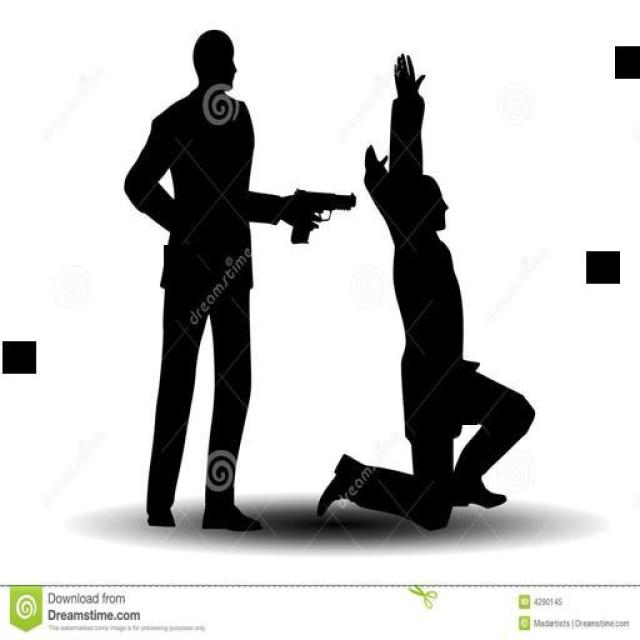gun: (287, 186, 355, 242)
